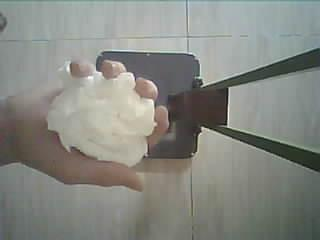paper: (49, 72, 156, 167)
